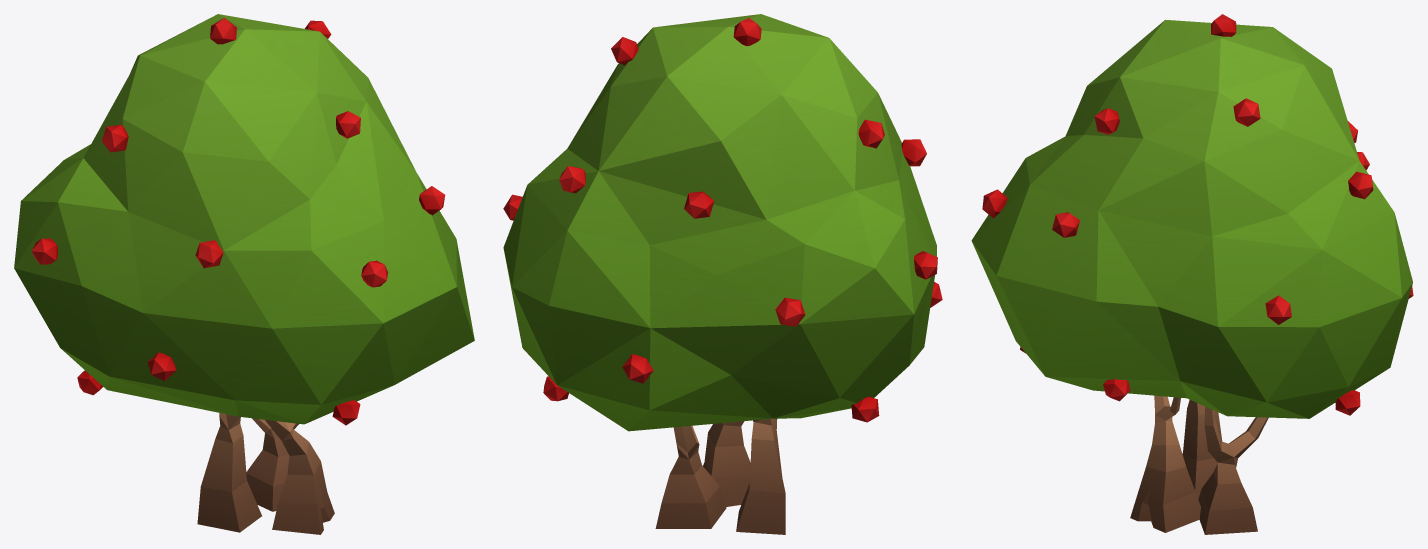
File: Bush_09.fbx
3 views of the same model, side by side, from view 1: azimuth 30°, elevation 25°; view 2: azimuth 150°, elevation 25°; view 3: azimuth 270°, elevation 25° (orthographic). The views are drawn at different scales.
Parts seen in each view (by area): view 1: Bush_09; view 2: Bush_09; view 3: Bush_09.
Boxes of the visible parts, x1,y1,x2,y2 form: Bush_09: (14, 14, 474, 534); Bush_09: (503, 14, 942, 534); Bush_09: (971, 14, 1413, 534).
Size of the model in its own units: 143 by 173 by 144.
